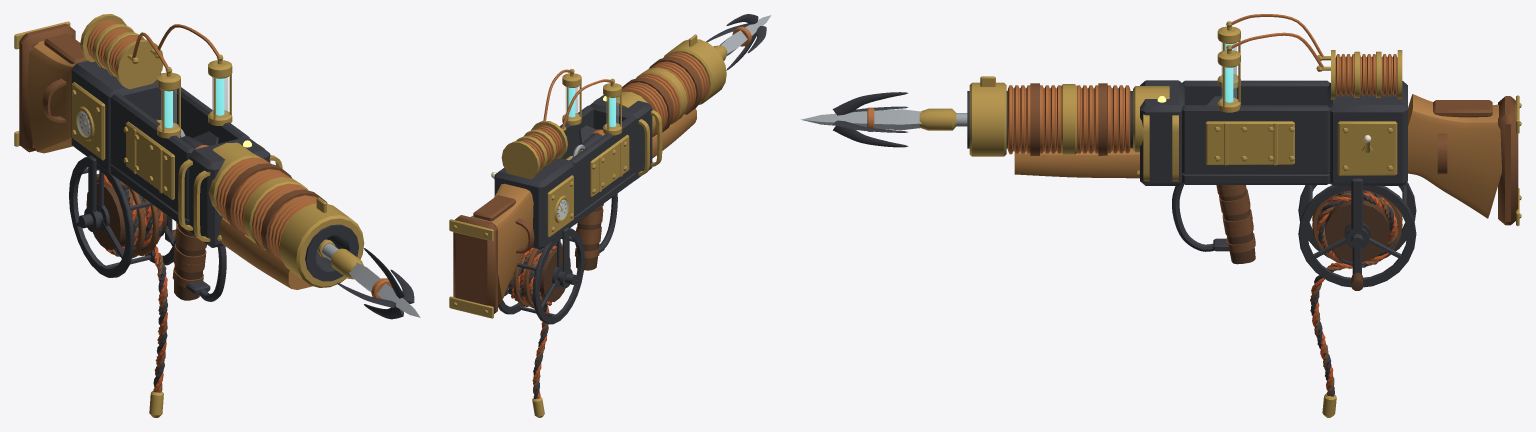
The model's file is tool_electricharpoongun.fbx.
3 views of the same model, side by side, from view 1: azimuth 30°, elevation 25°; view 2: azimuth 150°, elevation 25°; view 3: azimuth 270°, elevation 25° (orthographic). The views are drawn at different scales.
Visible parts, largest first — view 1: Tool_ElectricHarpoonGun_Brass, Tool_ElectricHarpoonGun_Receiver, Tool_ElectricHarpoonGun_Leather, Tool_ElectricHarpoonGun_Furniture, Tool_ElectricHarpoonGun_Reel, Tool_ElectricHarpoonGun_Coils, Tool_ElectricHarpoonGun_Harpoon, Tool_ElectricHarpoonGun_Wire, Tool_ElectricHarpoonGun_Barrel, Tool_ElectricHarpoonGun_Glass, Tool_ElectricHarpoonGun_Glow; view 2: Tool_ElectricHarpoonGun_Brass, Tool_ElectricHarpoonGun_Receiver, Tool_ElectricHarpoonGun_Leather, Tool_ElectricHarpoonGun_Furniture, Tool_ElectricHarpoonGun_Coils, Tool_ElectricHarpoonGun_Reel, Tool_ElectricHarpoonGun_Harpoon, Tool_ElectricHarpoonGun_Wire, Tool_ElectricHarpoonGun_Glass, Tool_ElectricHarpoonGun_Glow; view 3: Tool_ElectricHarpoonGun_Receiver, Tool_ElectricHarpoonGun_Brass, Tool_ElectricHarpoonGun_Furniture, Tool_ElectricHarpoonGun_Coils, Tool_ElectricHarpoonGun_Reel, Tool_ElectricHarpoonGun_Leather, Tool_ElectricHarpoonGun_Harpoon, Tool_ElectricHarpoonGun_Wire.
Part boxes in pixels (x1,y1,x2,y2): Tool_ElectricHarpoonGun_Brass: (14,14,364,287); Tool_ElectricHarpoonGun_Receiver: (71,60,270,301); Tool_ElectricHarpoonGun_Leather: (19,23,327,287); Tool_ElectricHarpoonGun_Furniture: (26,40,312,300); Tool_ElectricHarpoonGun_Reel: (69,155,177,277); Tool_ElectricHarpoonGun_Coils: (87,19,316,261); Tool_ElectricHarpoonGun_Harpoon: (179,129,420,319); Tool_ElectricHarpoonGun_Wire: (87,119,179,417); Tool_ElectricHarpoonGun_Barrel: (305,224,358,281); Tool_ElectricHarpoonGun_Glass: (76,77,228,136); Tool_ElectricHarpoonGun_Glow: (164,78,251,147); Tool_ElectricHarpoonGun_Brass: (449,34,726,318); Tool_ElectricHarpoonGun_Receiver: (494,95,652,253); Tool_ElectricHarpoonGun_Leather: (453,57,701,313); Tool_ElectricHarpoonGun_Furniture: (470,108,696,304); Tool_ElectricHarpoonGun_Coils: (518,52,709,169); Tool_ElectricHarpoonGun_Reel: (498,227,584,324); Tool_ElectricHarpoonGun_Harpoon: (572,14,771,157); Tool_ElectricHarpoonGun_Wire: (507,156,572,417); Tool_ElectricHarpoonGun_Glass: (558,87,618,219); Tool_ElectricHarpoonGun_Glow: (568,88,615,126); Tool_ElectricHarpoonGun_Receiver: (1140,80,1407,251); Tool_ElectricHarpoonGun_Brass: (969,21,1521,225); Tool_ElectricHarpoonGun_Furniture: (1014,58,1515,264); Tool_ElectricHarpoonGun_Coils: (1007,14,1397,154); Tool_ElectricHarpoonGun_Reel: (1298,178,1416,290); Tool_ElectricHarpoonGun_Leather: (1030,83,1518,262); Tool_ElectricHarpoonGun_Harpoon: (801,92,1222,147); Tool_ElectricHarpoonGun_Wire: (1310,183,1397,417).
Bounding box in the file's own units: 19.75 × 71.66 × 121.
